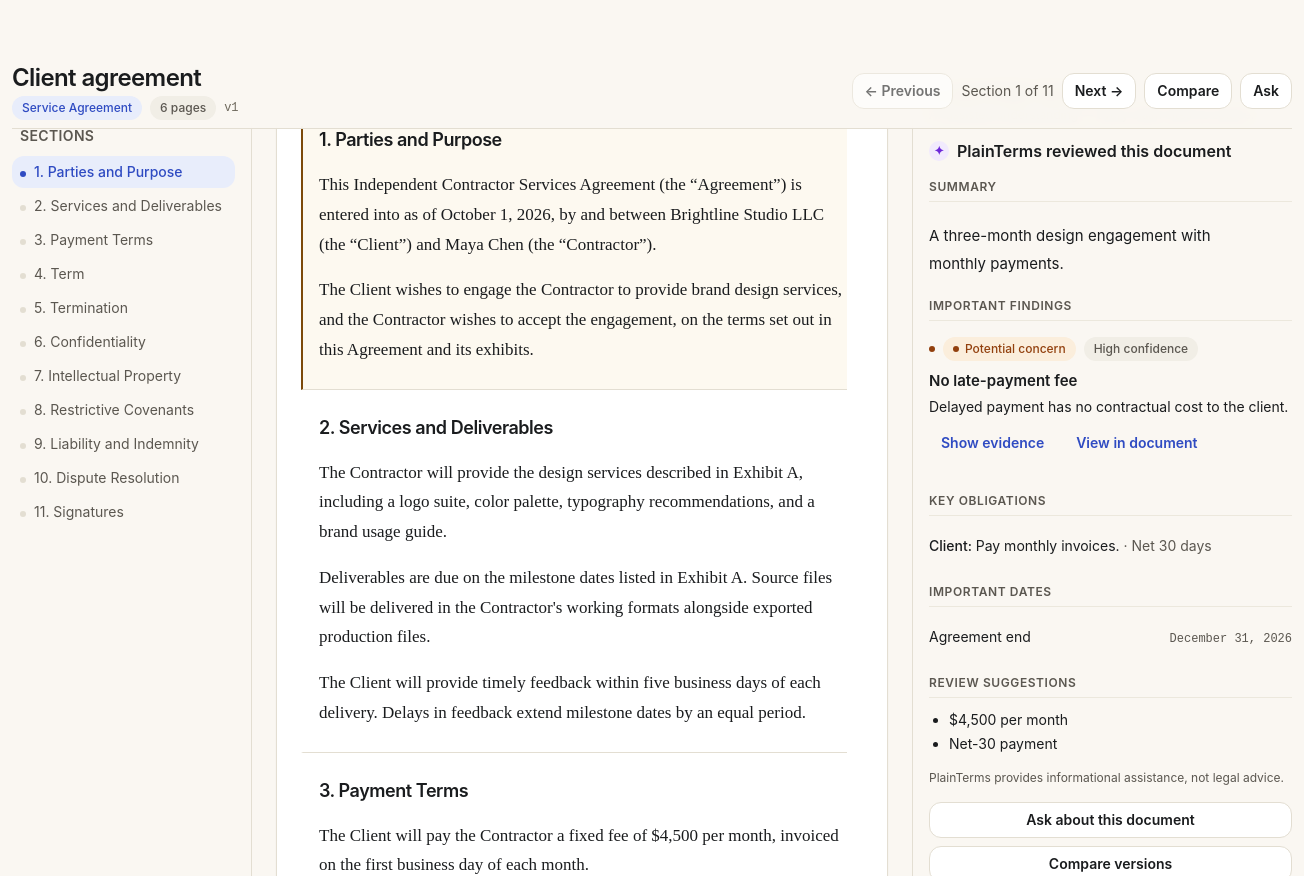
Test: ReviewWorkspace › renders validated Gemini findings with evidence and source jumps
Expected: the heading "PlainTerms reviewed this document" is shown, [957, 139, 1231, 163]
Expected: the heading "No late-payment fee" is shown, [929, 371, 1077, 390]
Click the button "Show evidence": (993,443) [929, 425, 1056, 461]
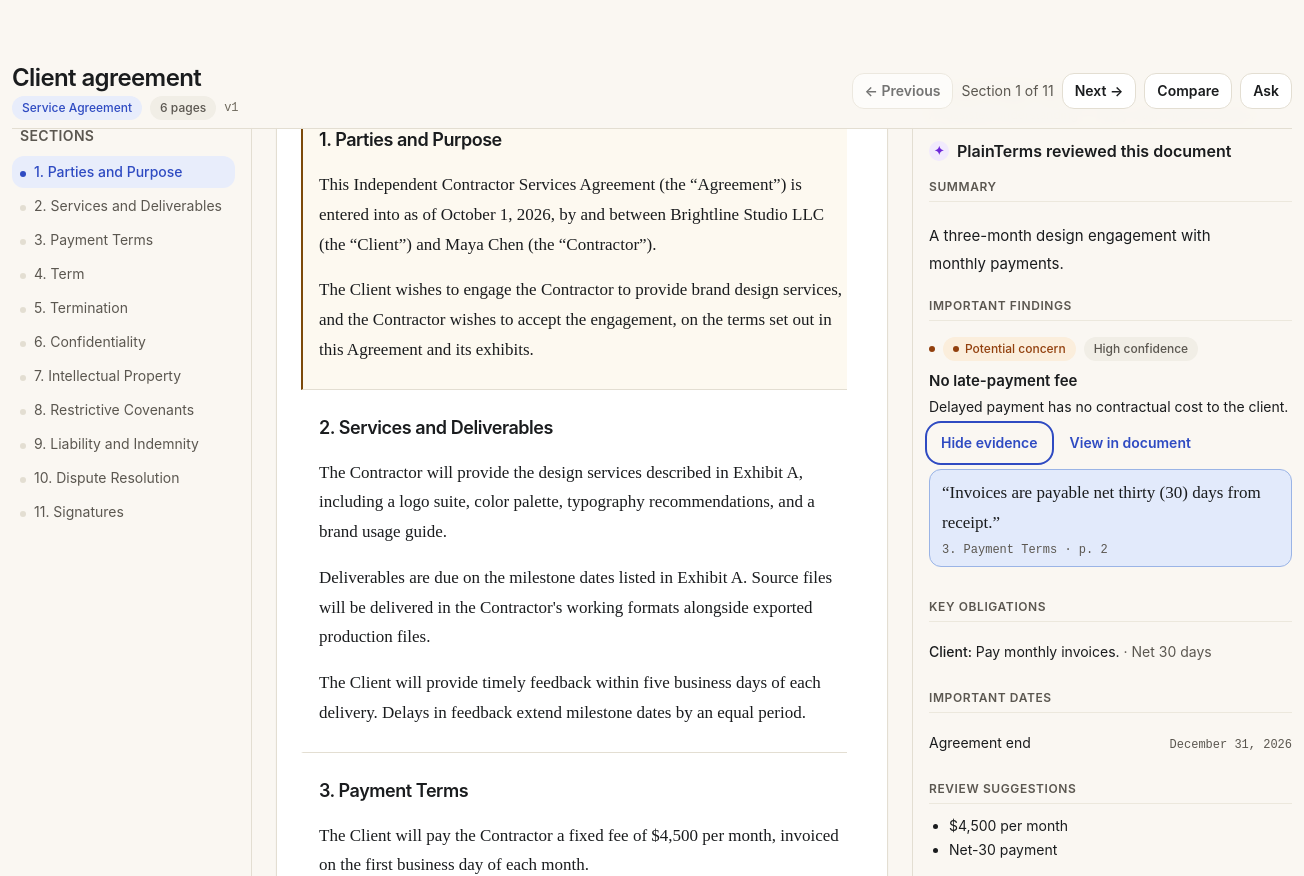
Expected: the text "“Invoices are payable net thirty (30) days from receipt.”" is shown, [942, 478, 1279, 538]
Click the button "View in document": (1130,443) [1058, 425, 1203, 461]
(page scrolled)
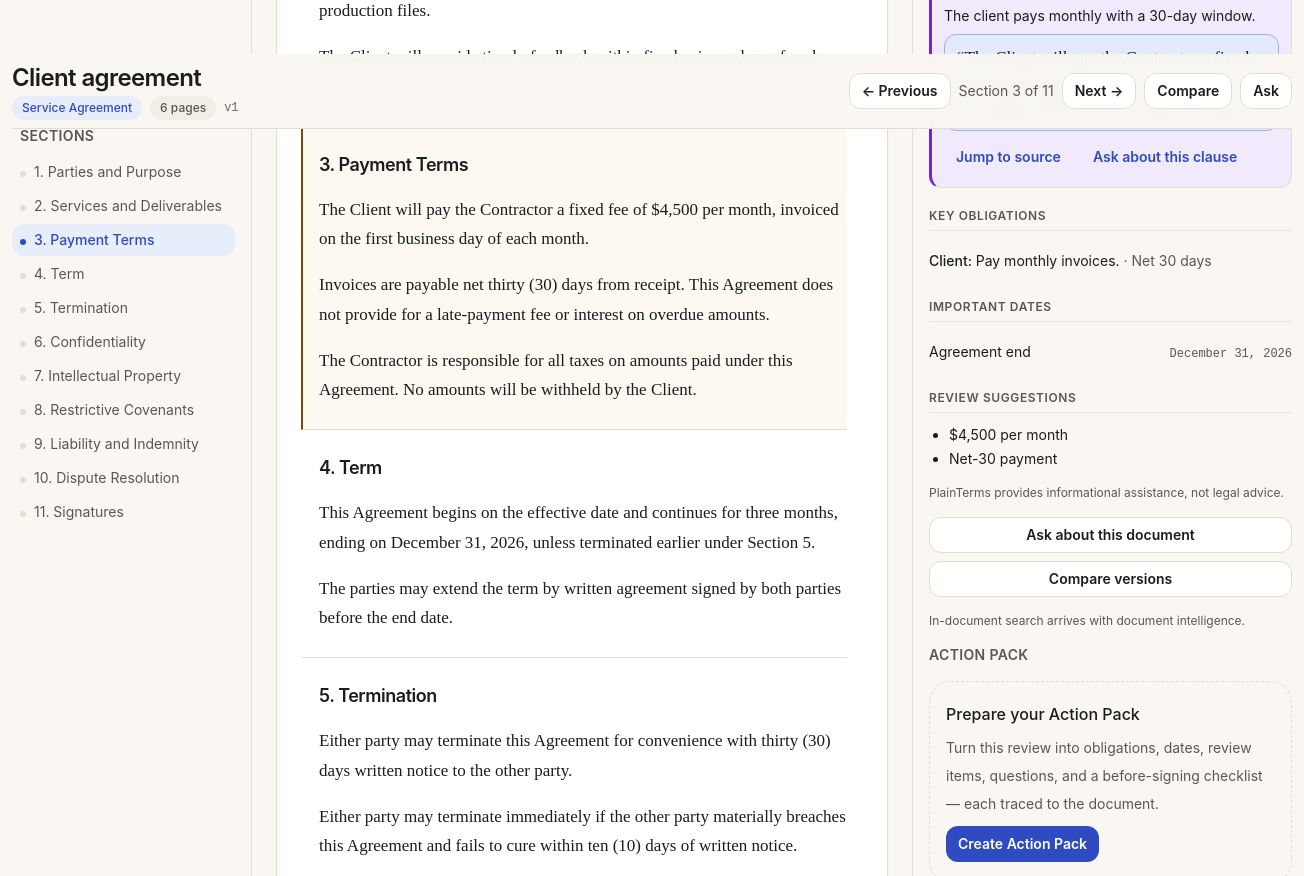
Expected: the text "Section 3 of 11" is shown, [958, 81, 1054, 101]
